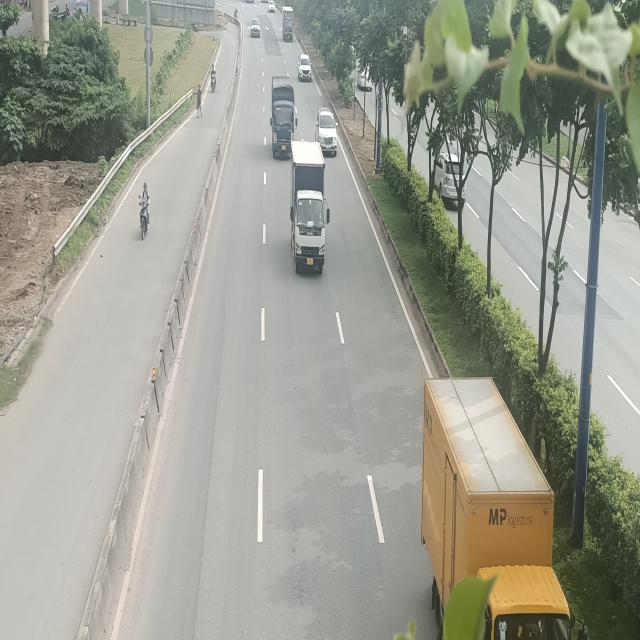car: (314, 109, 339, 155), (298, 53, 312, 82)
truck: (418, 377, 572, 636), (288, 140, 330, 272), (270, 82, 298, 158), (282, 6, 294, 43)
